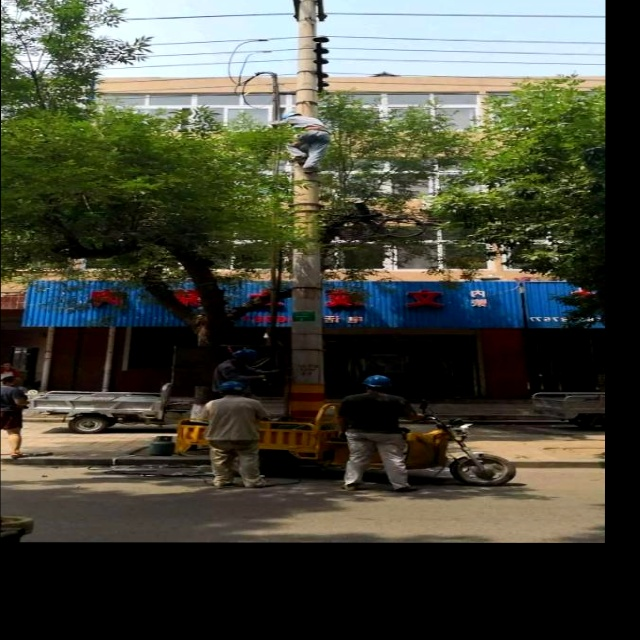Con_Casco: (361, 374, 391, 391)
Sin_Chaleco: (347, 393, 406, 429), (209, 397, 257, 437)
